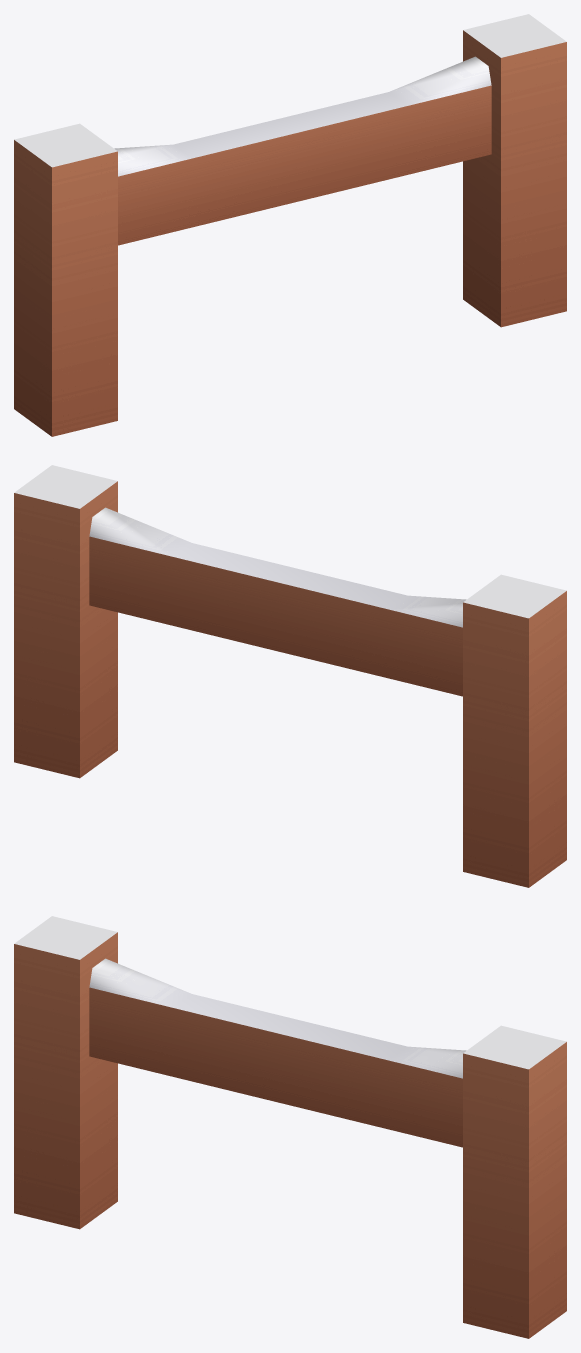
The model's file is tower-defense-kit--snow-wood-structure-part.glb.
3 renders of one model, top to bottom at view 1: azimuth 30°, elevation 25°; view 2: azimuth 150°, elevation 25°; view 3: azimuth 330°, elevation 25°, orthographic.
Parts seen in each view (by area): view 1: snow-wood-structure-part; view 2: snow-wood-structure-part; view 3: snow-wood-structure-part.
Boxes of the visible parts, x1,y1,x2,y2 form: snow-wood-structure-part: (14,14,566,436); snow-wood-structure-part: (14,465,566,887); snow-wood-structure-part: (14,916,566,1338).
Size of the model in its own units: 1 by 0.5 by 0.128.
1 material, 1 textured.
